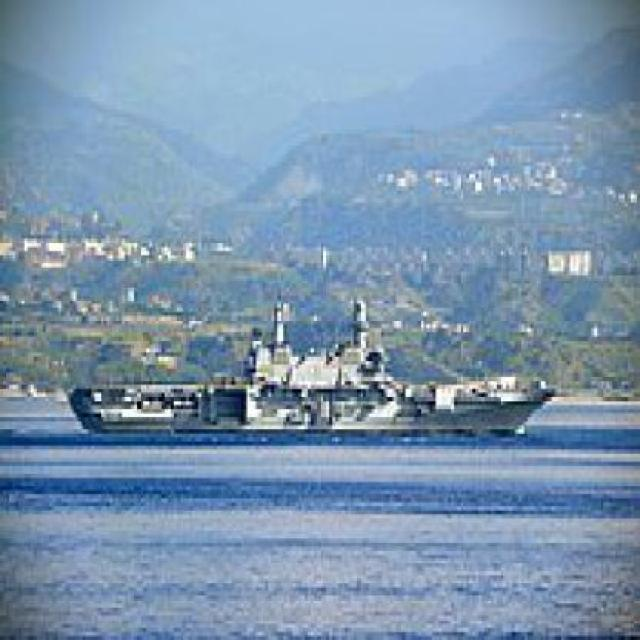warship2: (71, 281, 553, 447)
